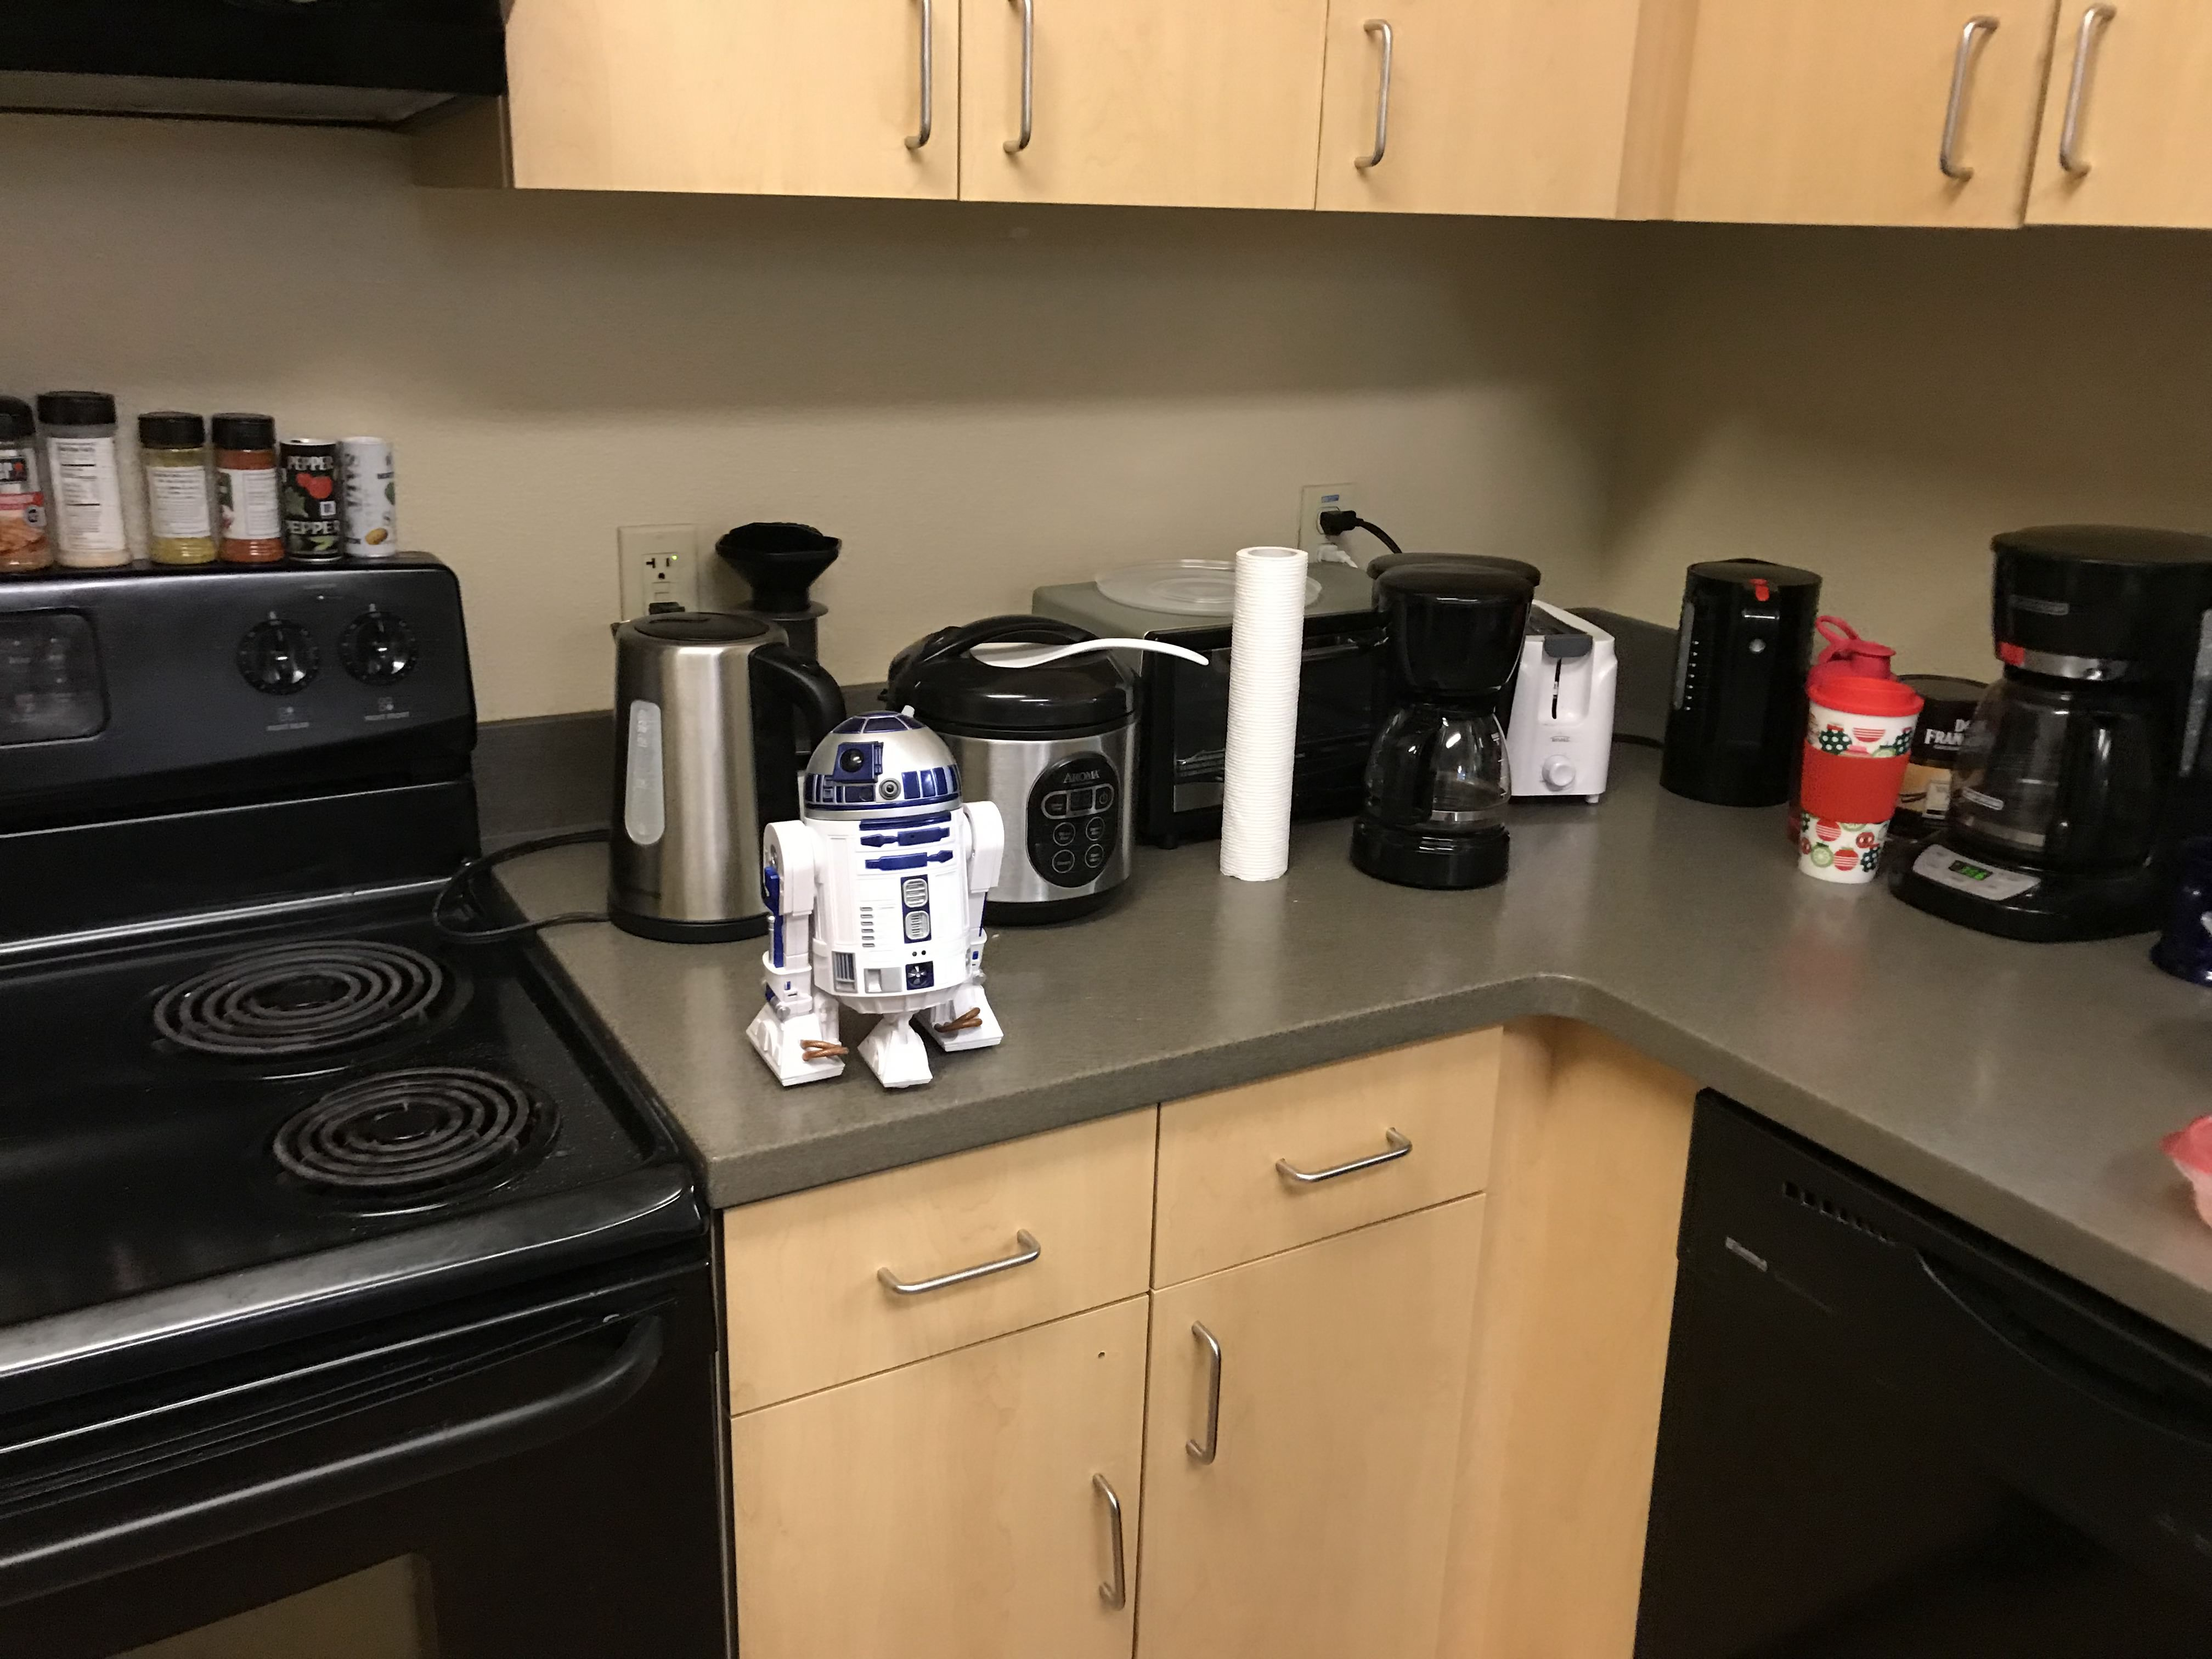r2d2: (751, 702, 1003, 1093)
